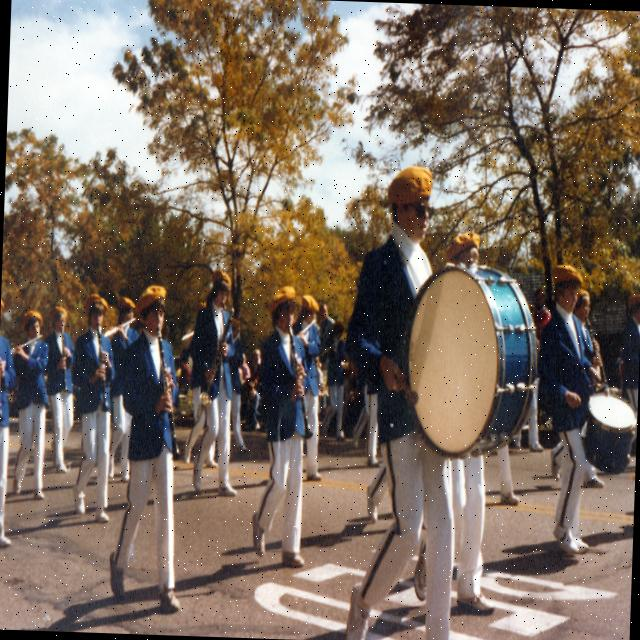clarinet: (150, 328, 188, 462), (282, 322, 319, 442), (582, 314, 614, 392), (91, 322, 112, 412), (57, 327, 70, 391)
